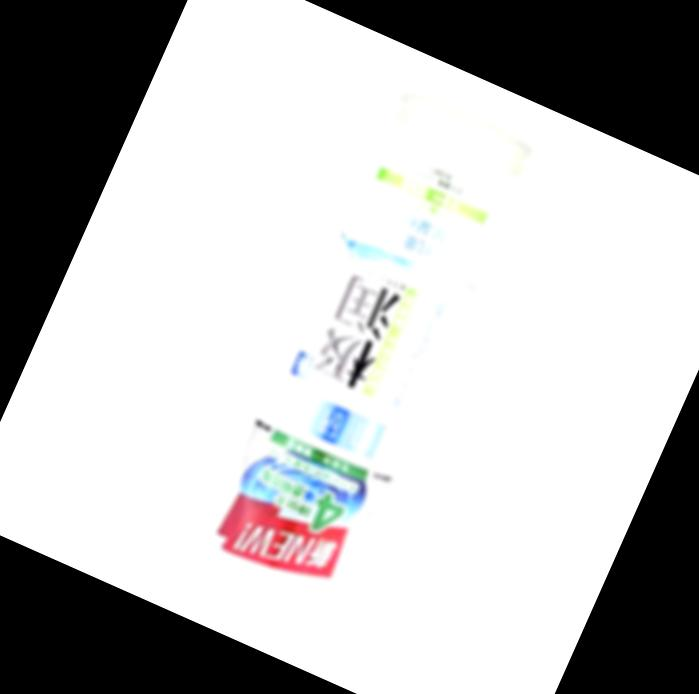cosmetic: (195, 97, 536, 625)
